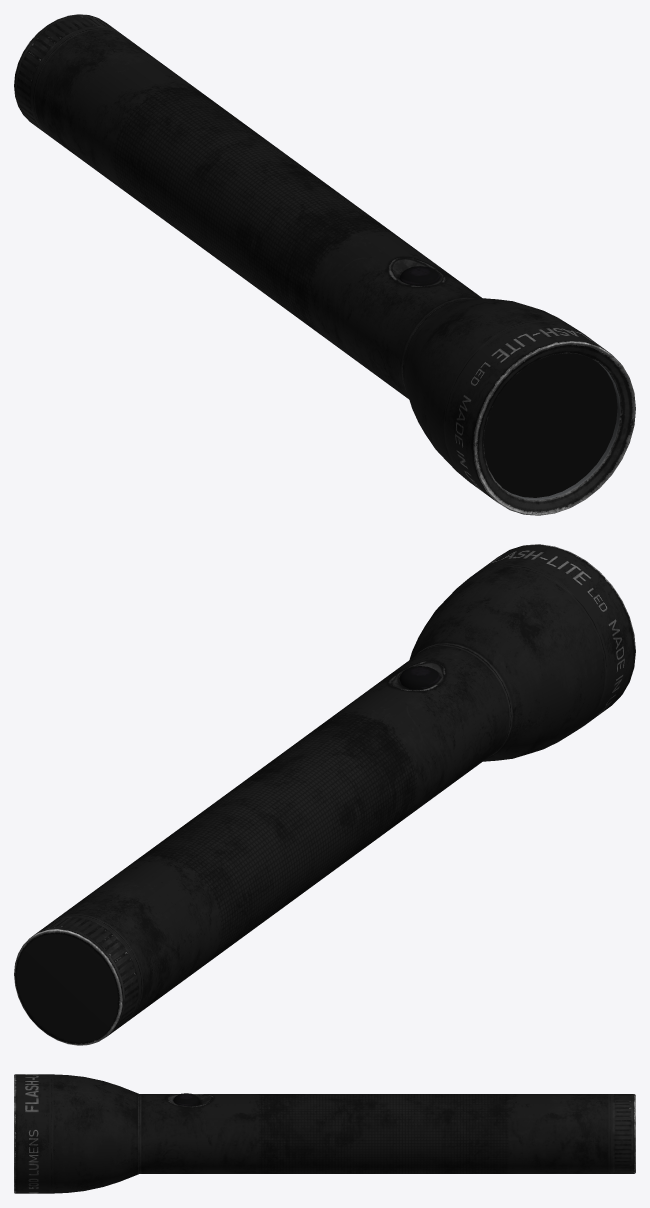
The model's file is flash-lite_flashlight.glb.
3 views of the same model, one above another, from view 1: azimuth 30°, elevation 25°; view 2: azimuth 150°, elevation 25°; view 3: azimuth 270°, elevation 25° (orthographic). The views are drawn at different scales.
Visible parts, largest first — view 1: Cube.012; view 2: Cube.012; view 3: Cube.012.
Part boxes in pixels (bbox=[...]): Cube.012: bbox=[14, 14, 635, 515]; Cube.012: bbox=[14, 544, 635, 1045]; Cube.012: bbox=[14, 1074, 635, 1193].
Bounding box in the file's own units: 0.057 × 0.057 × 0.2969.
Materials: 2 (2 with a texture image).
